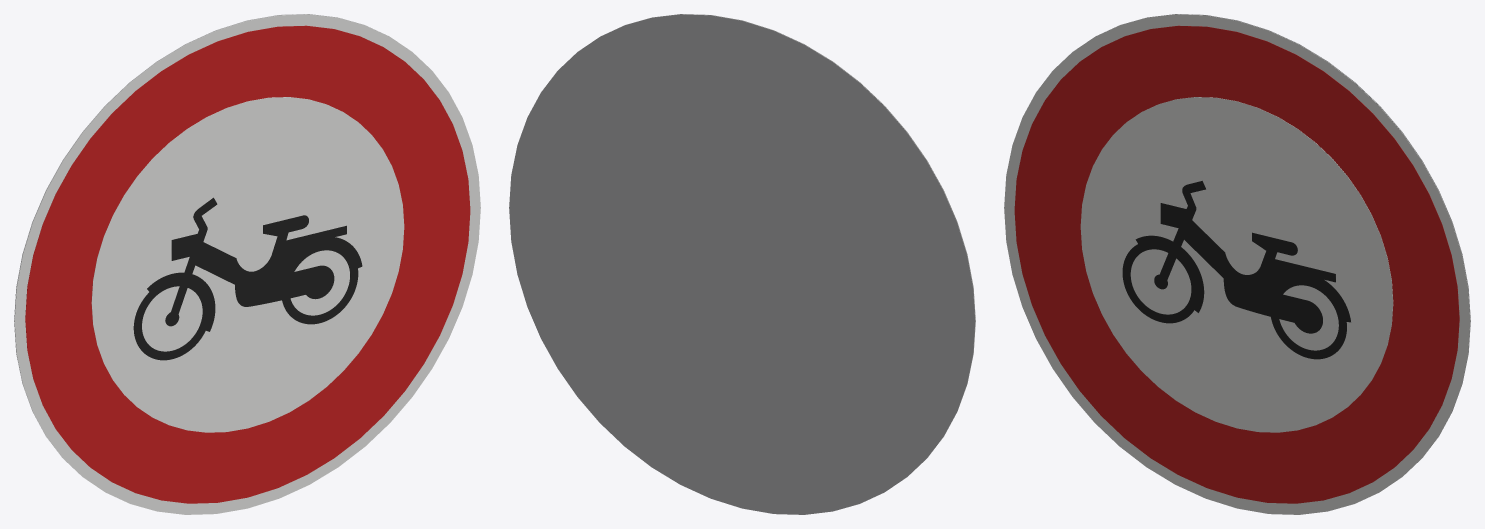
The picture shows the model from 3 angles, left to right: view 1: azimuth 30°, elevation 25°; view 2: azimuth 150°, elevation 25°; view 3: azimuth 330°, elevation 25°; orthographic projection.
Visible parts, largest first — view 1: B9g_p01, B9g_p02, B9g_p00, B9g_p03, B9g_dos; view 2: B9g_dos, B9g_p00; view 3: B9g_p01, B9g_p02, B9g_p00, B9g_p03, B9g_dos.
Part boxes in pixels (x1=…): B9g_p01: x1=25, y1=25, x2=470, y2=503; B9g_p02: x1=91, y1=97, x2=404, y2=432; B9g_p00: x1=14, y1=14, x2=480, y2=514; B9g_p03: x1=133, y1=197, x2=362, y2=360; B9g_dos: x1=14, y1=14, x2=385, y2=473; B9g_dos: x1=509, y1=14, x2=975, y2=514; B9g_p00: x1=604, y1=14, x2=975, y2=473; B9g_p01: x1=1014, y1=25, x2=1459, y2=503; B9g_p02: x1=1080, y1=97, x2=1393, y2=432; B9g_p00: x1=1004, y1=14, x2=1470, y2=514; B9g_p03: x1=1122, y1=180, x2=1350, y2=359; B9g_dos: x1=1099, y1=14, x2=1470, y2=473.
Bounding box in the file's own units: 0.85 × 0.8498 × 0.0031.
